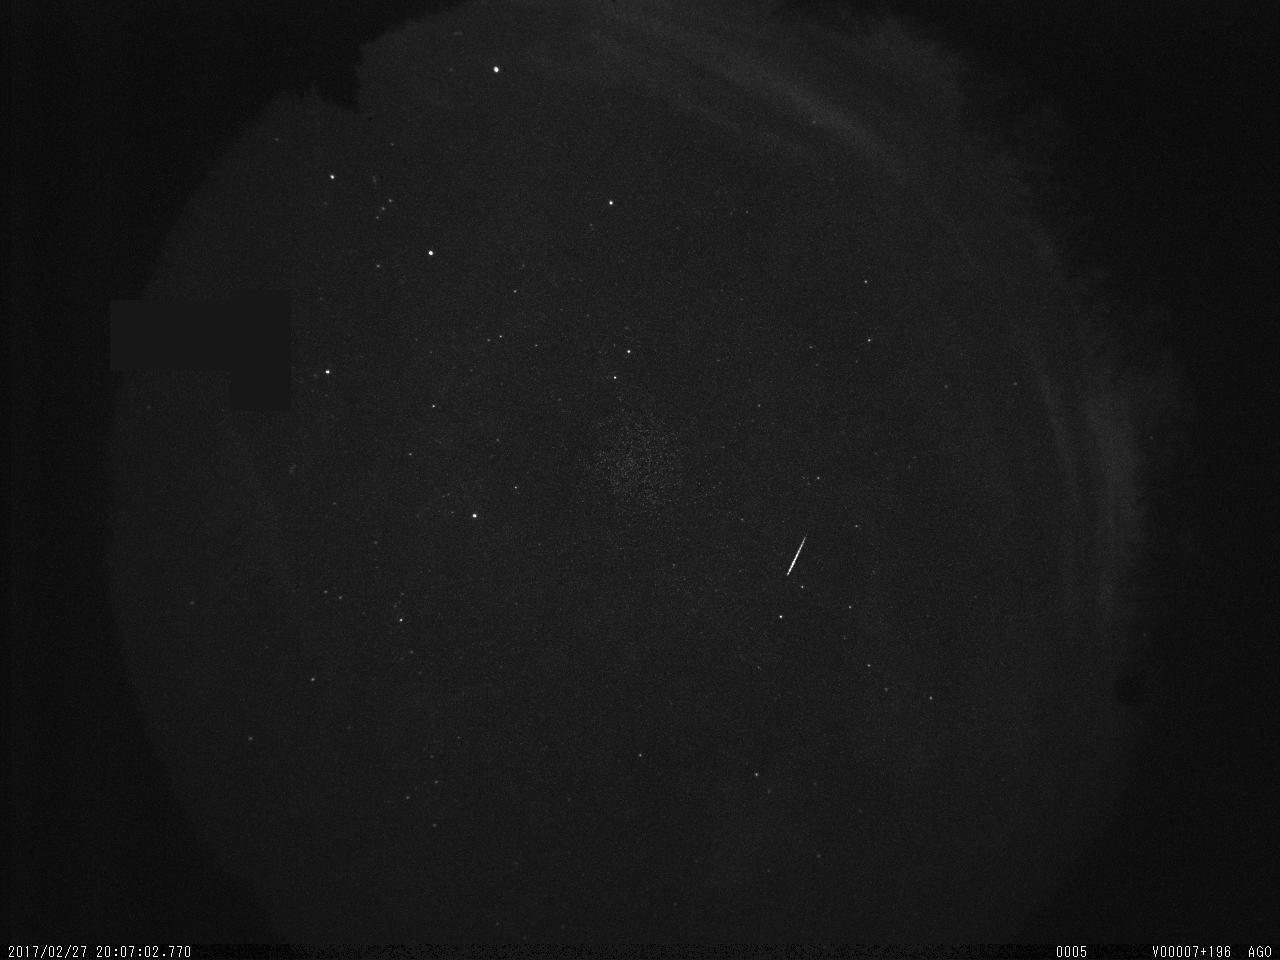Meteor: (782, 524, 816, 587)
